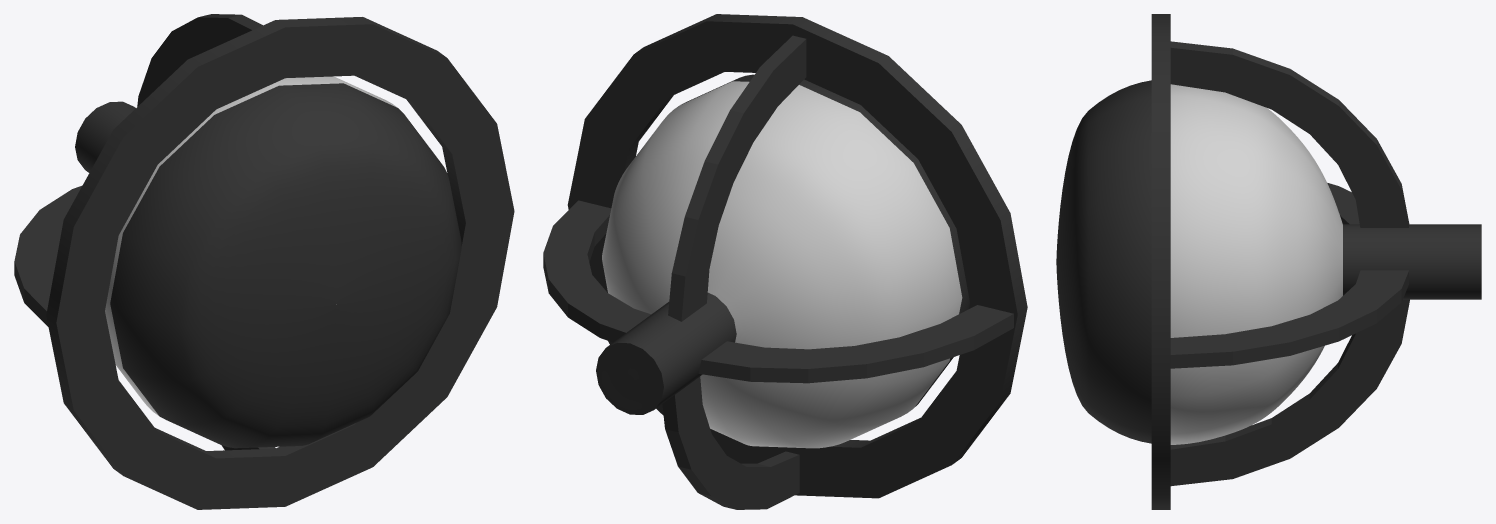
Rendered from Urbi 3 Basket.obj.
3 renders of one model, left to right at view 1: azimuth 30°, elevation 25°; view 2: azimuth 150°, elevation 25°; view 3: azimuth 270°, elevation 25°, orthographic. The views are drawn at different scales.
Parts seen in each view (by area): view 1: Selux_Urbi_3_Basket_Lampenkopf.005; view 2: Selux_Urbi_3_Basket_Lampenkopf.005; view 3: Selux_Urbi_3_Basket_Lampenkopf.005.
Boxes of the visible parts, <box> form: Selux_Urbi_3_Basket_Lampenkopf.005: <box>14,14,514,509</box>; Selux_Urbi_3_Basket_Lampenkopf.005: <box>543,14,1027,509</box>; Selux_Urbi_3_Basket_Lampenkopf.005: <box>1056,14,1481,509</box>.
Size of the model in its own units: 0.66 by 0.66 by 0.5652.
Materials: 3 (2 with a texture image).
